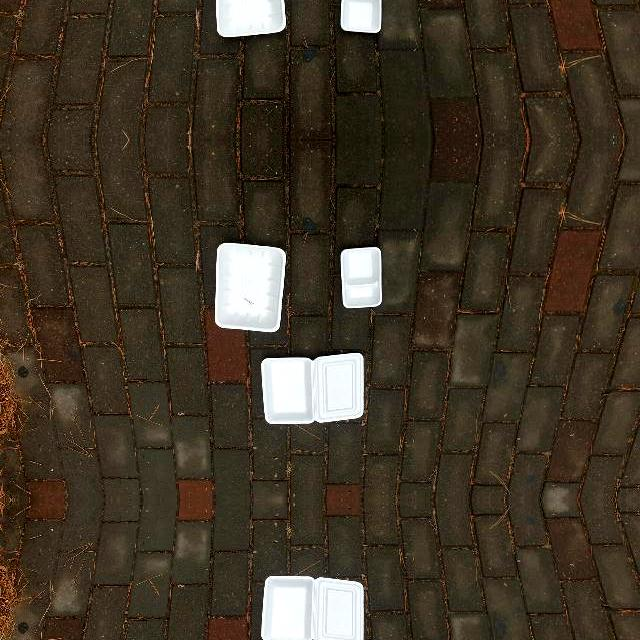Styrofoam: (261, 350, 363, 424), (261, 353, 364, 424), (261, 575, 363, 640), (261, 576, 364, 640), (214, 242, 286, 332), (214, 243, 286, 333), (341, 247, 384, 310), (213, 0, 286, 37), (215, 0, 286, 38), (341, 248, 380, 307), (340, 0, 383, 33), (341, 0, 380, 32)
